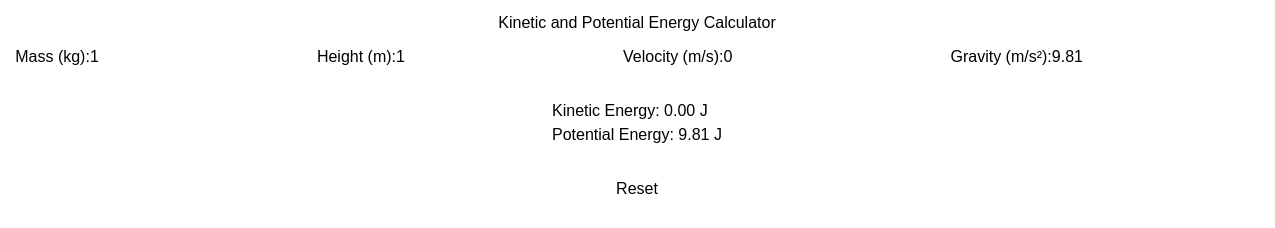
Kinetic and Potential Energy Calculator › resets all values to default
Replace the text in the number field labelled "Mass (kg):" with "5" at [193, 57], box x1=90 y1=45 x2=297 y2=69
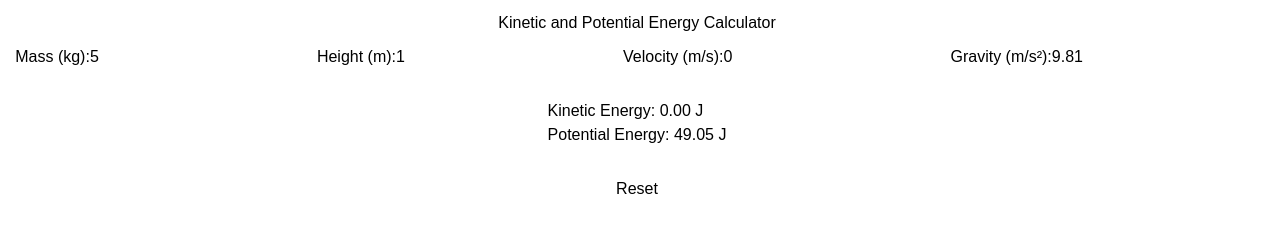
Replace the text in the number field labelled "Height (m):" with "10" at [500, 57], box x1=396 y1=45 x2=603 y2=69
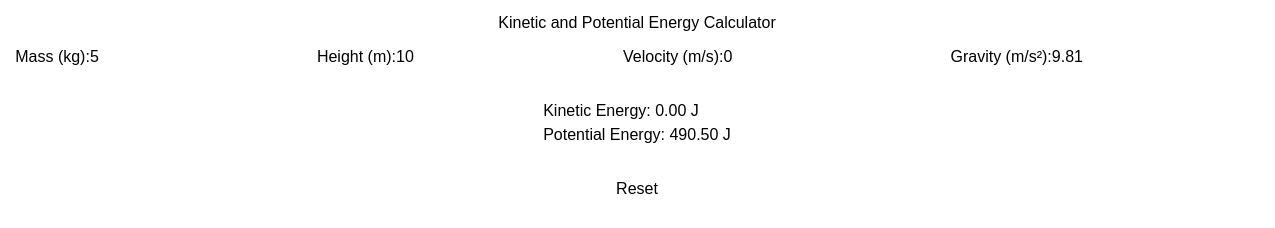
Replace the text in the number field labelled "Velocity (m/s):" with "4" at [827, 57], box x1=724 y1=45 x2=930 y2=69
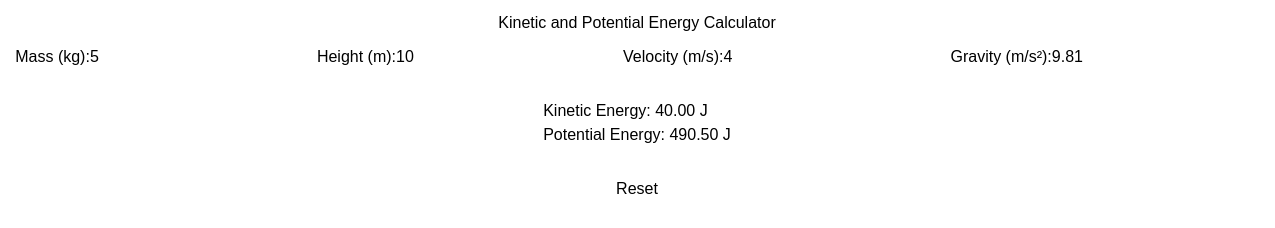
Replace the text in the number field labelled "Gravity (m/s²):" with "5" at [1155, 57], box x1=1052 y1=45 x2=1259 y2=69
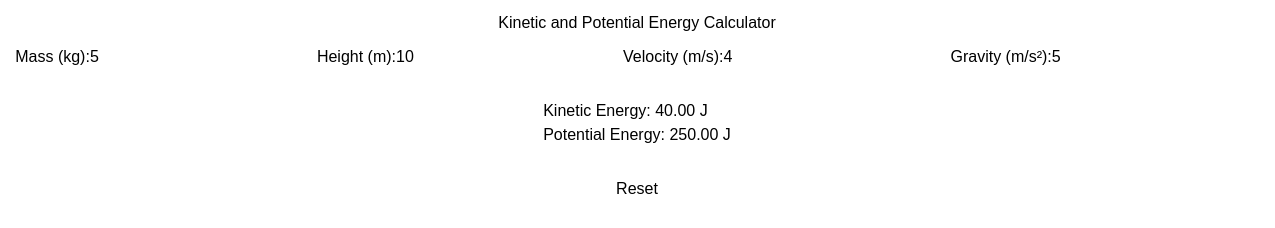
Click the button "Reset" at [637, 189], box x1=596 y1=167 x2=678 y2=211
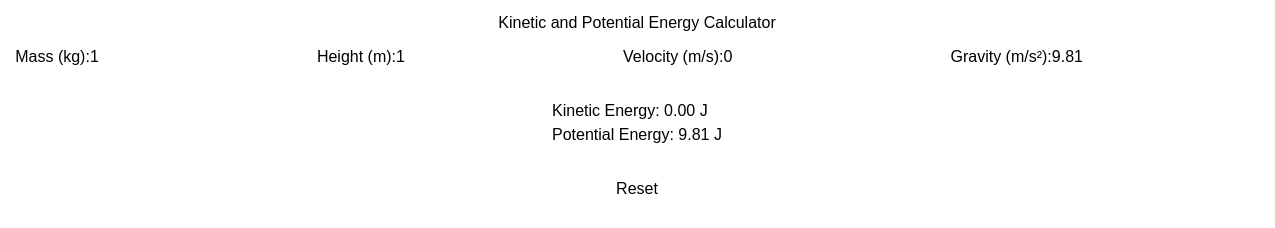
Expected: the number field labelled "Mass (kg):" holds "1", x1=90 y1=45 x2=297 y2=69
Expected: the number field labelled "Height (m):" holds "1", x1=396 y1=45 x2=603 y2=69
Expected: the number field labelled "Velocity (m/s):" holds "0", x1=724 y1=45 x2=930 y2=69
